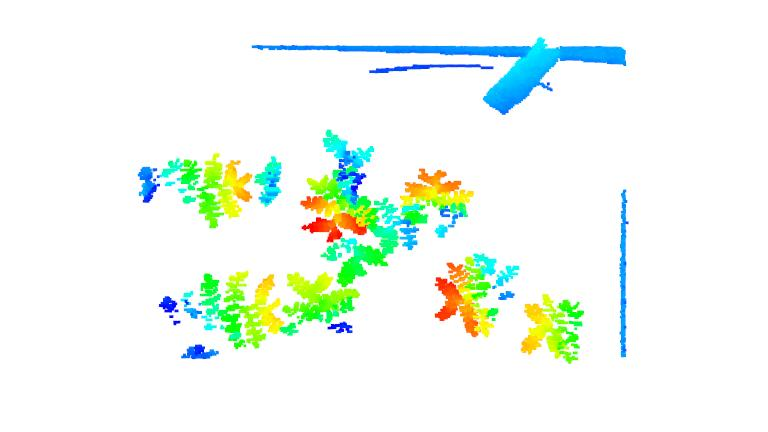chickpea: (156, 265, 284, 364), (297, 130, 376, 284), (131, 145, 251, 228), (374, 162, 477, 252), (419, 255, 520, 344), (286, 261, 365, 349), (521, 293, 592, 369), (251, 151, 292, 207)
